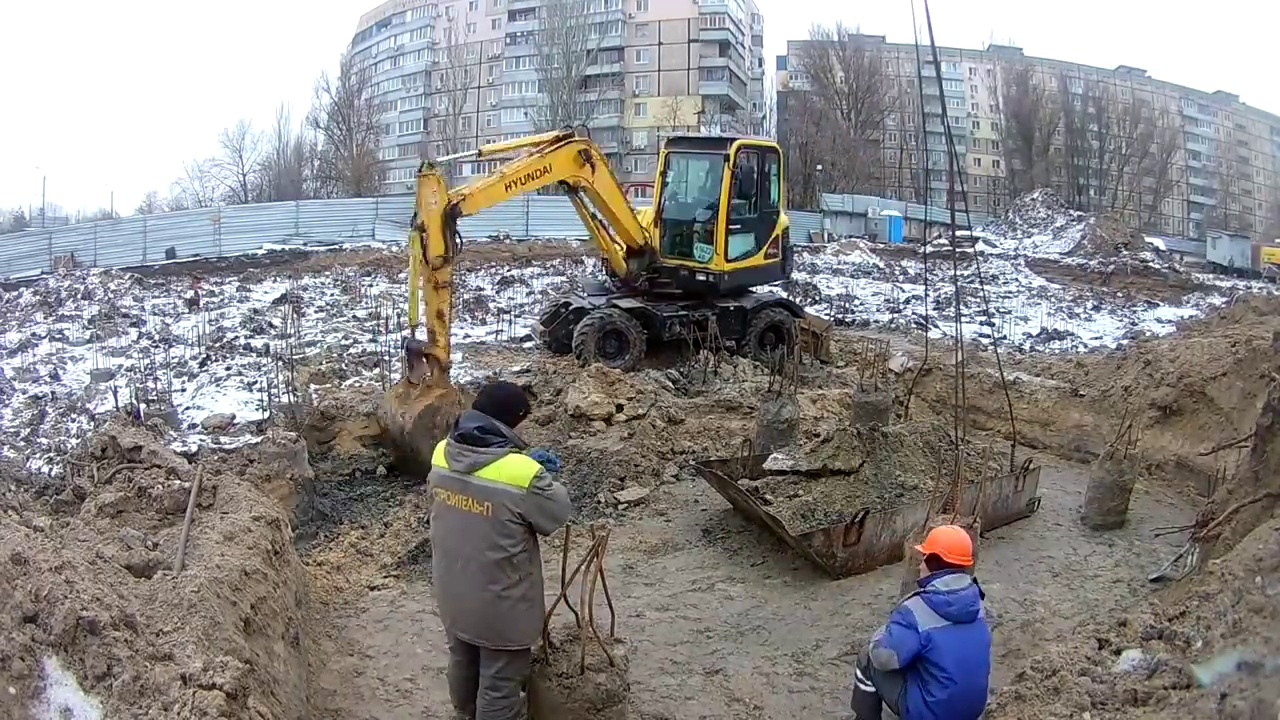helmet: (913, 521, 973, 566)
helmet-off: (463, 381, 525, 443)
helmet-on: (911, 519, 975, 599)
person: (430, 375, 571, 720), (857, 520, 995, 720)
